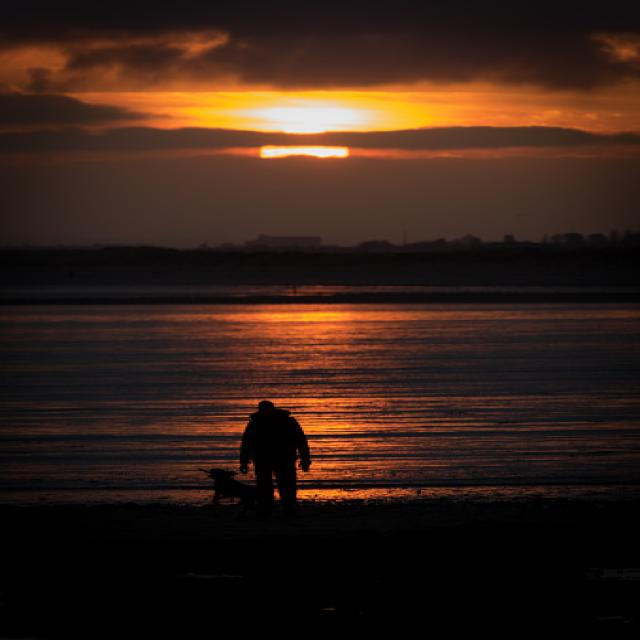Dog: (202, 466, 280, 515)
